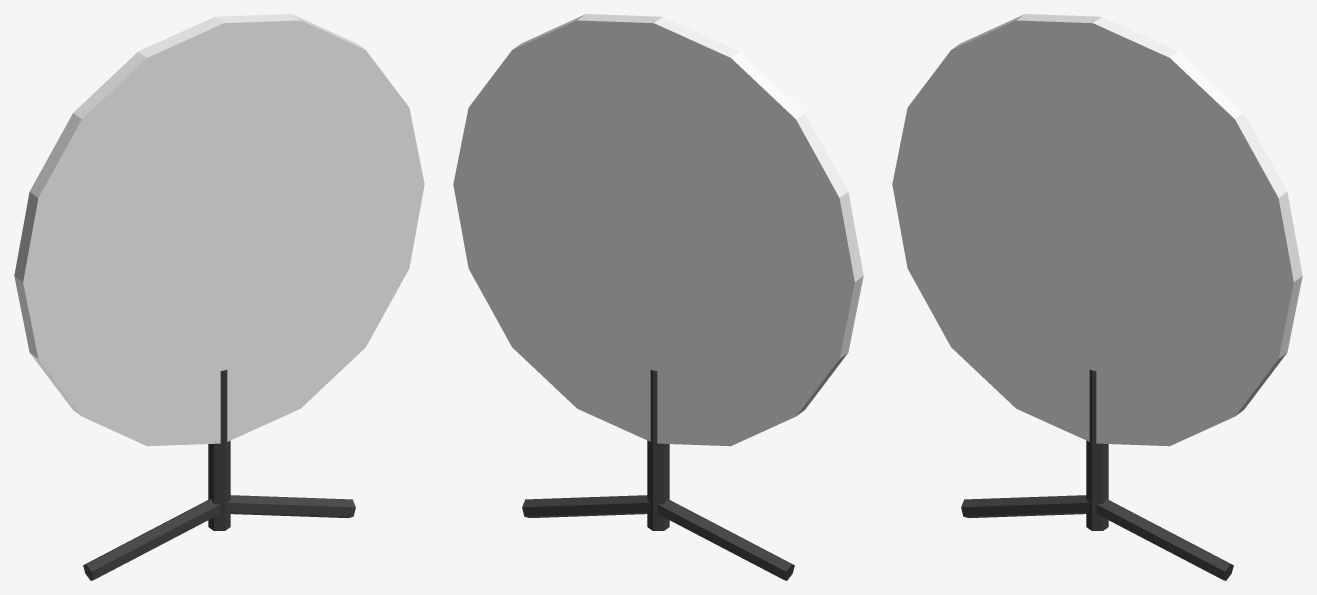
3 views of the same model, side by side, from view 1: azimuth 30°, elevation 25°; view 2: azimuth 150°, elevation 25°; view 3: azimuth 330°, elevation 25° (orthographic).
Parts seen in each view (by area): view 1: Reflector, Foot, Foot.001, Stand; view 2: Reflector, Foot, Foot.001, Stand; view 3: Reflector, Foot.001, Foot, Stand.
Part boxes in pixels (box(x1,y1,x2,y2)): Reflector: box(14, 14, 424, 446); Foot: box(83, 499, 220, 580); Foot.001: box(227, 495, 355, 517); Stand: box(208, 369, 230, 530); Reflector: box(453, 14, 863, 446); Foot: box(657, 499, 794, 580); Foot.001: box(522, 495, 650, 517); Stand: box(647, 369, 669, 530); Reflector: box(892, 14, 1302, 446); Foot.001: box(1096, 499, 1233, 580); Foot: box(961, 495, 1089, 517); Stand: box(1086, 369, 1108, 530).
Size of the model in its own units: 92 by 116 by 4.4.
